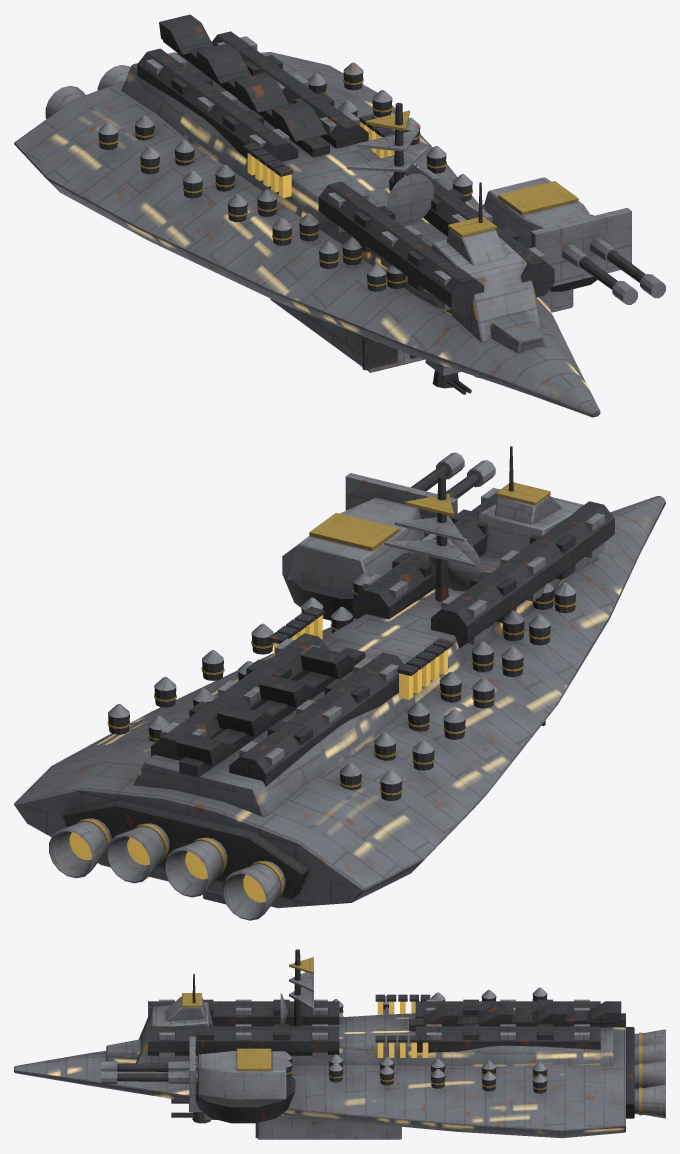
The model's file is grael_carrier.glb.
3 views of the same model, one above another, from view 1: azimuth 30°, elevation 25°; view 2: azimuth 150°, elevation 25°; view 3: azimuth 270°, elevation 25° (orthographic). The views are drawn at different scales.
Visible parts, largest first — view 1: HULL, SYS_WPN1, SYS_BUS_F, SYS_BUS_A, SYS_BRIDGE, SYS_SENSORS, SYS_HANGAR, SYS_REACTOR, SYS_DRIVE, SYS_PD; view 2: HULL, SYS_DRIVE, SYS_BUS_F, SYS_WPN1, SYS_BUS_A, SYS_BRIDGE, SYS_SENSORS, SYS_REACTOR; view 3: HULL, SYS_WPN1, SYS_BUS_F, SYS_BUS_A, SYS_DRIVE, SYS_HANGAR, SYS_BRIDGE, SYS_REACTOR, SYS_SENSORS, SYS_PD.
Boxes of the visible parts, bbox=[...] form: HULL: bbox=[14, 14, 600, 417]; SYS_WPN1: bbox=[484, 177, 665, 312]; SYS_BUS_F: bbox=[318, 165, 554, 315]; SYS_BUS_A: bbox=[137, 31, 368, 161]; SYS_BRIDGE: bbox=[432, 182, 540, 342]; SYS_SENSORS: bbox=[347, 102, 434, 224]; SYS_HANGAR: bbox=[270, 298, 424, 372]; SYS_REACTOR: bbox=[243, 114, 404, 198]; SYS_DRIVE: bbox=[45, 52, 177, 118]; SYS_PD: bbox=[425, 360, 478, 394]; HULL: bbox=[14, 496, 665, 908]; SYS_DRIVE: bbox=[49, 799, 308, 920]; SYS_BUS_F: bbox=[352, 483, 614, 648]; SYS_WPN1: bbox=[282, 452, 495, 620]; SYS_BUS_A: bbox=[151, 633, 403, 786]; SYS_BRIDGE: bbox=[478, 446, 599, 576]; SYS_SENSORS: bbox=[384, 475, 481, 601]; SYS_REACTOR: bbox=[268, 606, 453, 699]; HULL: bbox=[14, 987, 625, 1138]; SYS_WPN1: bbox=[101, 1036, 295, 1123]; SYS_BUS_F: bbox=[148, 999, 339, 1057]; SYS_BUS_A: bbox=[415, 999, 600, 1053]; SYS_DRIVE: bbox=[626, 1027, 665, 1118]; SYS_HANGAR: bbox=[255, 1114, 401, 1139]; SYS_BRIDGE: bbox=[136, 973, 212, 1063]; SYS_REACTOR: bbox=[375, 994, 430, 1057]; SYS_SENSORS: bbox=[280, 949, 313, 1026]; SYS_PD: bbox=[171, 1099, 210, 1123].
Bounding box in the file's own units: 24.98 × 16.78 × 57.59.
Materials: 1 (1 with a texture image).
